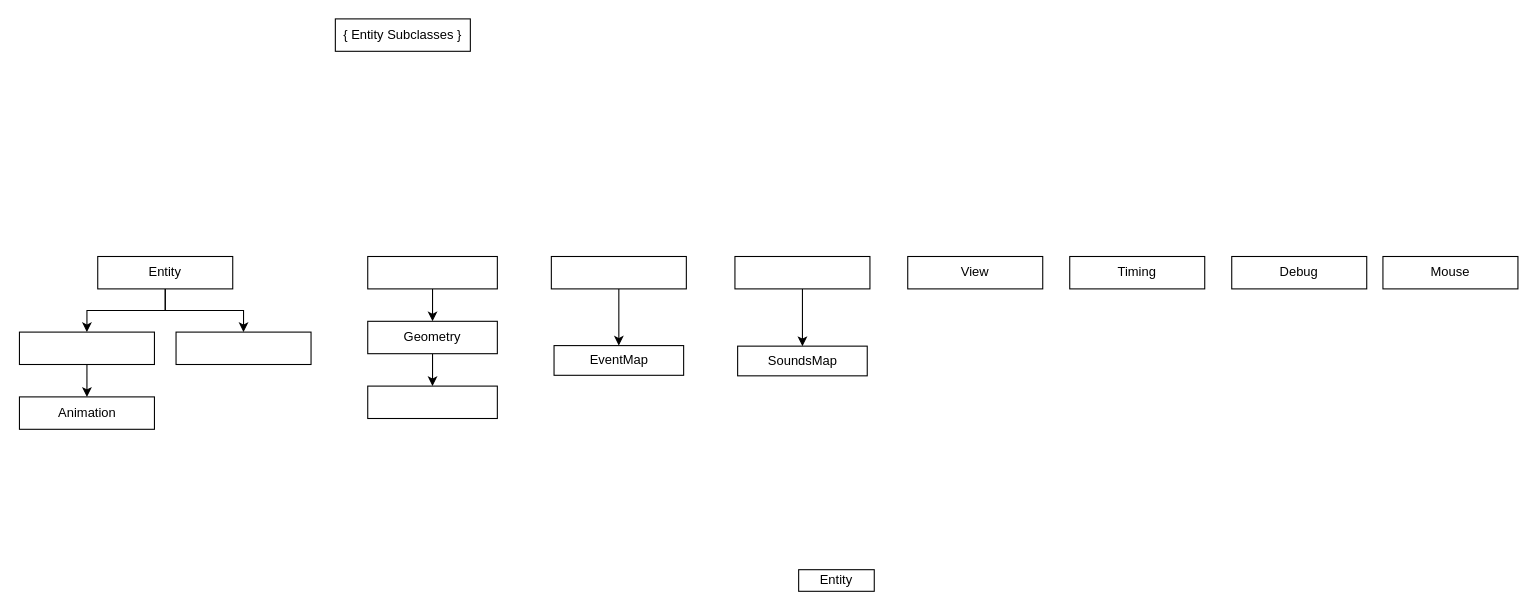
Image size: 1537x610. Some labels were removed from this diagram. Here are the shapes that lost their labels. From the top down, the box of each, then its label:
(367, 255, 497, 289): Collision detectors
(550, 255, 686, 289): Events
(734, 255, 870, 289): Sounds
(18, 331, 154, 364): Sprite
(175, 331, 311, 364): Behaviors
(367, 385, 497, 418): Shapes
